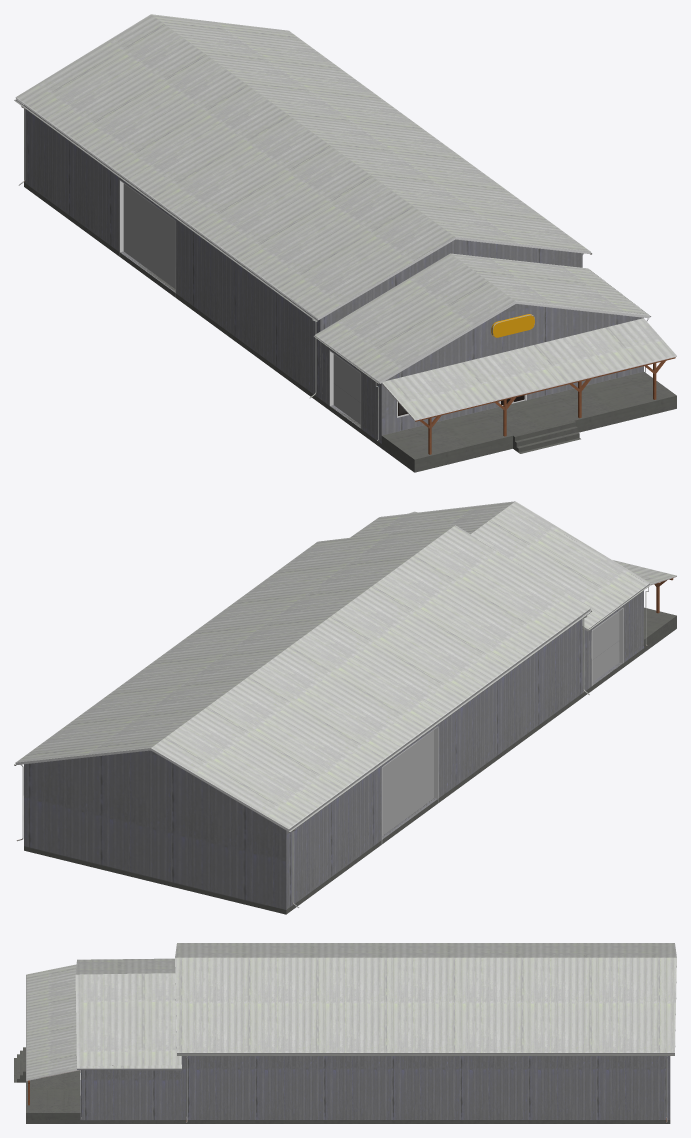
The model's file is newHollandDealer.fbx.
The picture shows the model from 3 angles, top to bottom: view 1: azimuth 30°, elevation 25°; view 2: azimuth 150°, elevation 25°; view 3: azimuth 270°, elevation 25°; orthographic projection. The views are drawn at different scales.
Parts seen in each view (by area): view 1: dealerBuilding; view 2: dealerBuilding; view 3: dealerBuilding.
Part boxes in pixels (box(x1,y1,x2,y2)): dealerBuilding: box(14, 14, 676, 472); dealerBuilding: box(14, 501, 676, 914); dealerBuilding: box(14, 943, 676, 1123).
Bounding box in the file's own units: 1885 × 883 × 4680.
1 material, 1 textured.
